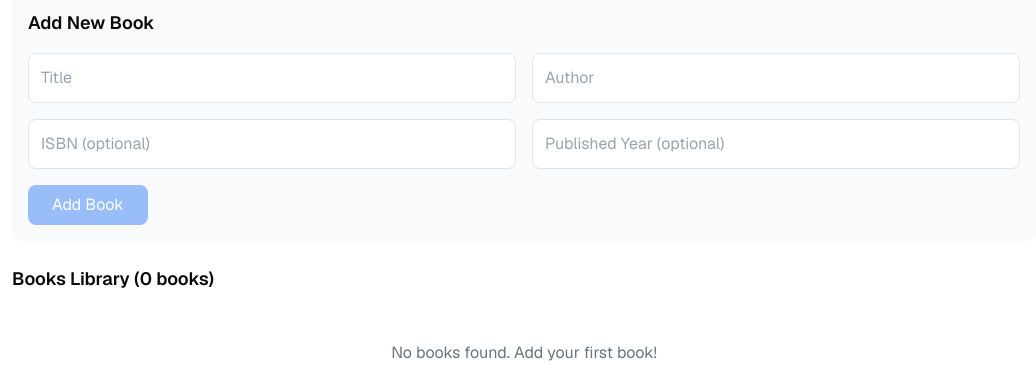
Test: BooksClient › does not add book without required fields
expect the button "Add Book" is disabled: met, box [28, 185, 148, 225]
Type "Only Title" into the field with placeholder "Title".
click(272, 78); type("Only Title")  # box [28, 53, 516, 103]
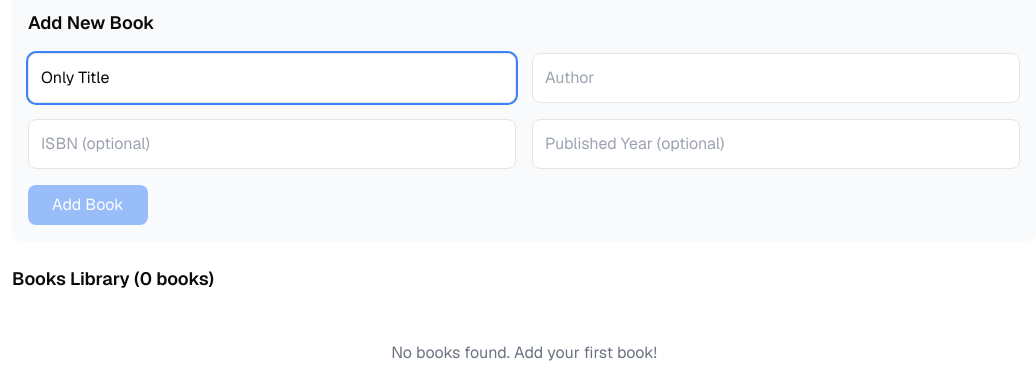
expect the button "Add Book" is disabled: met, box [28, 185, 148, 225]
Type "Some Author" into the field with placeholder "Author".
click(776, 78); type("Some Author")  # box [532, 53, 1020, 103]
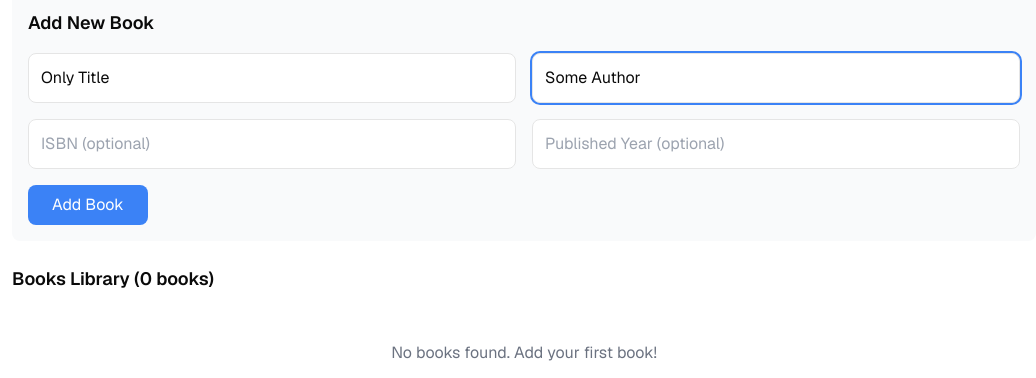
expect the button "Add Book" is enabled: met, box [28, 185, 148, 225]
